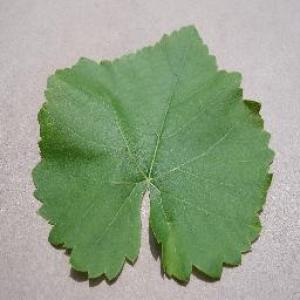Folha: (31, 22, 276, 286)
